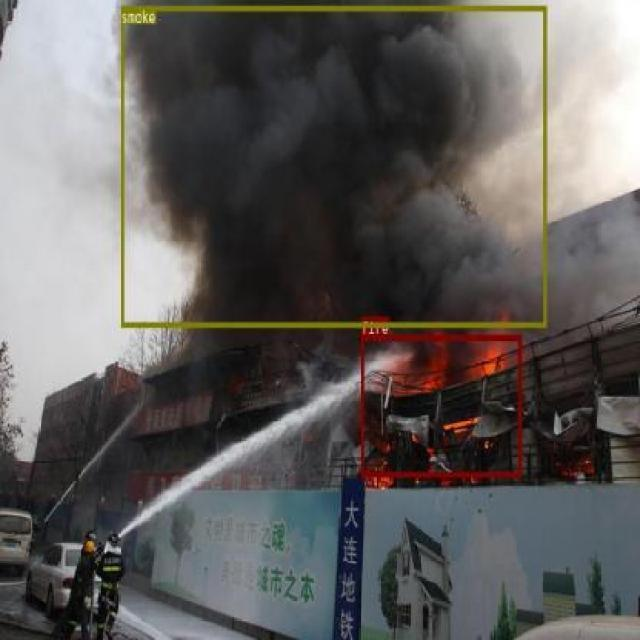Fire: (359, 334, 521, 476)
Smoke: (120, 4, 546, 327)
